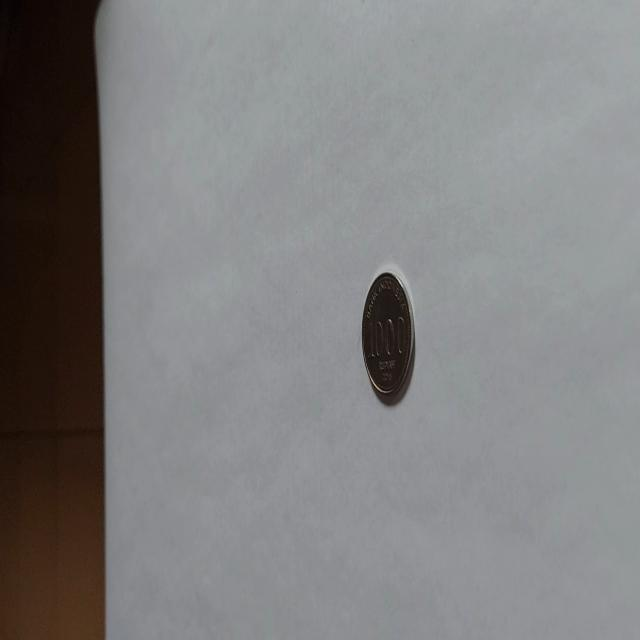seribu rupiah koin: (360, 270, 416, 404)
